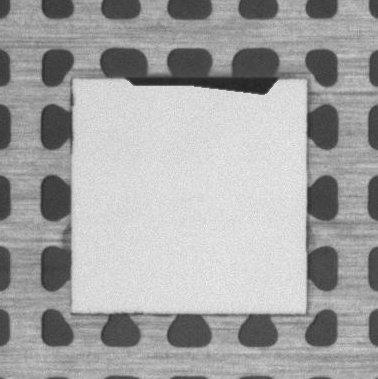DIE_BROKEN: (127, 71, 281, 97)
